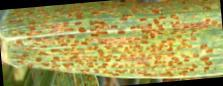Wheat: (132, 4, 219, 72), (65, 3, 129, 75), (10, 9, 66, 69)
